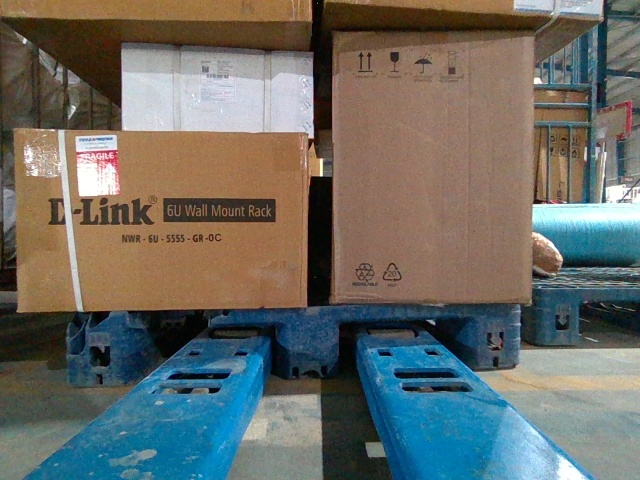block: (71, 308, 131, 388), (287, 306, 340, 380), (473, 302, 520, 374), (541, 287, 585, 345)
front: (70, 304, 519, 384)
hole pallet: (124, 321, 287, 383), (335, 316, 476, 380), (580, 298, 639, 342)
